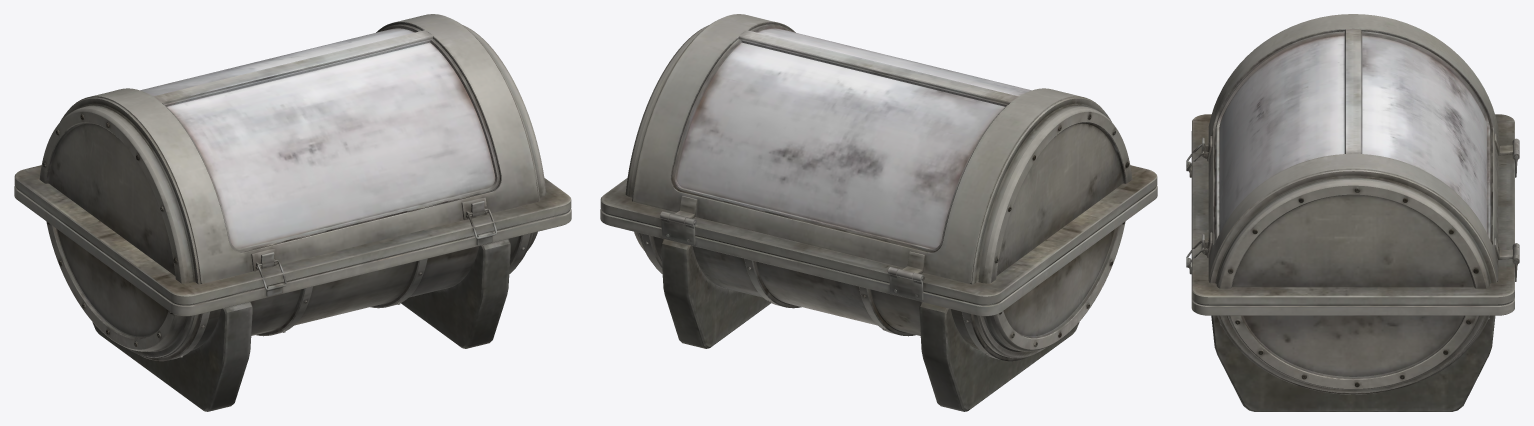
The model's file is cilindro.glb.
3 renders of one model, left to right at view 1: azimuth 30°, elevation 25°; view 2: azimuth 150°, elevation 25°; view 3: azimuth 270°, elevation 25°, orthographic. The views are drawn at different scales.
Parts seen in each view (by area): view 1: Canopy_Glass, Canopy | Cast observation frame and glazing rebate, Canopy | Stepped end closure R, Canopy | Mating flange, Lower shell | Ribbed monocoque trough, Lower shell | Stepped end closure R, Cradle | Bore-matched saddle R, Cradle | Bore-matched saddle L, Lower shell | Continuous machined flange, Canopy | Crown glazing bridge, Canopy | Stepped end closure L, Joint | Compression seal; view 2: Canopy_Glass, Canopy | Cast observation frame and glazing rebate, Canopy | Stepped end closure R, Canopy | Mating flange, Lower shell | Ribbed monocoque trough, Lower shell | Stepped end closure R, Cradle | Bore-matched saddle R, Cradle | Bore-matched saddle L, Lower shell | Continuous machined flange, Canopy | Crown glazing bridge, Canopy | Stepped end closure L, Joint | Compression seal (+2 smaller); view 3: Canopy_Glass, Canopy | Stepped end closure L, Lower shell | Stepped end closure L, Canopy | Cast observation frame and glazing rebate, Canopy | Mating flange, Cradle | Bore-matched saddle L, Lower shell | Continuous machined flange, Canopy | Crown glazing bridge, Lower shell | Ribbed monocoque trough, Joint | Compression seal.
Boxes of the visible parts, box(x1,y1,x2,y2) form: Canopy_Glass: box(140, 28, 495, 248); Canopy | Cast observation frame and glazing rebate: box(70, 14, 538, 283); Canopy | Stepped end closure R: box(39, 97, 200, 284); Canopy | Mating flange: box(14, 165, 571, 304); Lower shell | Ribbed monocoque trough: box(130, 233, 532, 361); Lower shell | Stepped end closure R: box(46, 221, 193, 357); Cradle | Bore-matched saddle R: box(92, 302, 252, 411); Cradle | Bore-matched saddle L: box(401, 239, 510, 348); Lower shell | Continuous machined flange: box(14, 185, 571, 316); Canopy | Crown glazing bridge: box(153, 30, 432, 106); Canopy | Stepped end closure L: box(453, 19, 546, 201); Joint | Compression seal: box(16, 187, 569, 305); Canopy_Glass: box(676, 28, 1031, 248); Canopy | Cast observation frame and glazing rebate: box(633, 14, 1101, 283); Canopy | Stepped end closure R: box(971, 97, 1132, 284); Canopy | Mating flange: box(600, 165, 1157, 304); Lower shell | Ribbed monocoque trough: box(639, 233, 1041, 361); Lower shell | Stepped end closure R: box(978, 221, 1125, 357); Cradle | Bore-matched saddle R: box(919, 302, 1079, 411); Cradle | Bore-matched saddle L: box(661, 239, 770, 348); Lower shell | Continuous machined flange: box(600, 185, 1157, 316); Canopy | Crown glazing bridge: box(739, 30, 1018, 106); Canopy | Stepped end closure L: box(625, 19, 718, 201); Joint | Compression seal: box(602, 187, 1155, 305); Canopy_Glass: box(1219, 35, 1487, 233); Canopy | Stepped end closure L: box(1209, 169, 1497, 288); Lower shell | Stepped end closure L: box(1221, 315, 1485, 392); Canopy | Cast observation frame and glazing rebate: box(1208, 14, 1498, 281); Canopy | Mating flange: box(1192, 114, 1514, 304); Cradle | Bore-matched saddle L: box(1211, 315, 1495, 411); Lower shell | Continuous machined flange: box(1191, 131, 1514, 315); Canopy | Crown glazing bridge: box(1344, 29, 1362, 153); Lower shell | Ribbed monocoque trough: box(1217, 315, 1489, 394); Joint | Compression seal: box(1193, 300, 1513, 305).
Bounding box in the file's own units: 2 × 1.31 × 1.54.
Materials: 1 (1 with a texture image).
